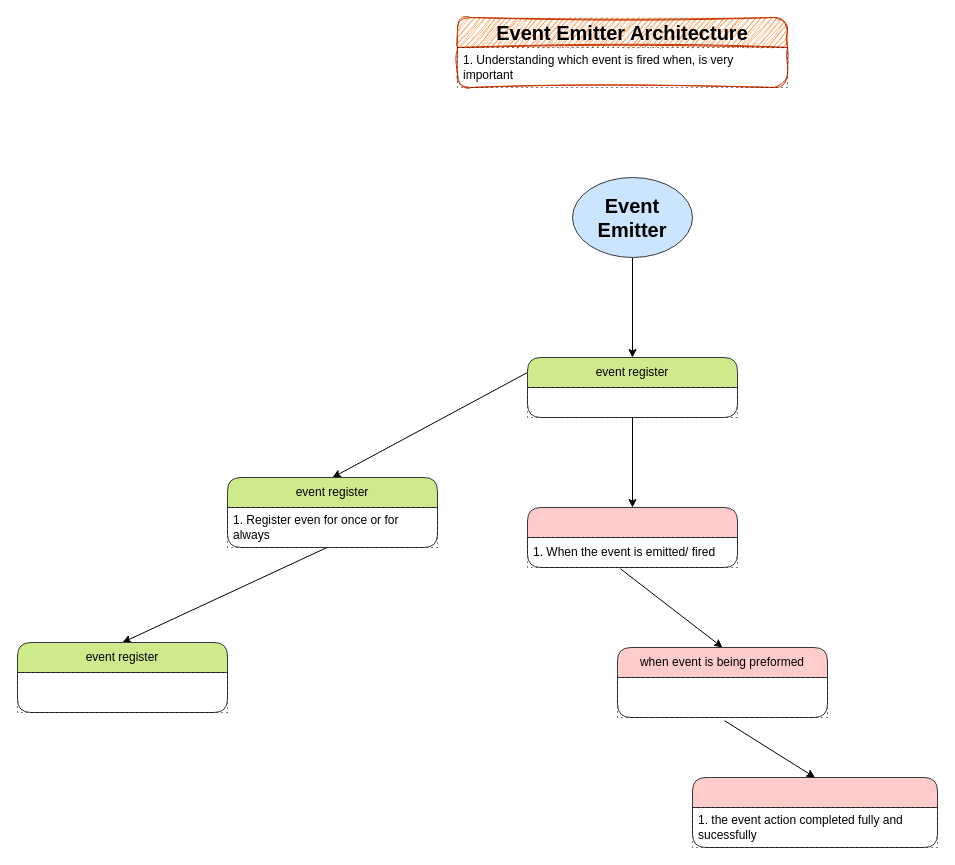
This 955x865 diagram has some shape labels left out. The box of each missing label's shape, as (x1, y1, x2, y2) in pixels:
1. remove any event: (16, 672, 228, 712)
1. when event is being performed and is not yet completed: (616, 676, 828, 718)
1. when event is registered: (526, 386, 738, 418)
event fire: (526, 506, 738, 568)
when event is completed: (692, 776, 938, 848)
